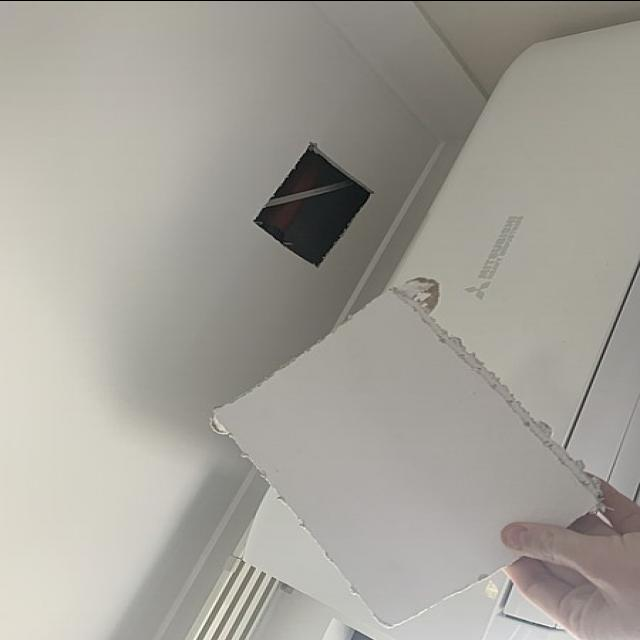Crack: (254, 143, 369, 265)
